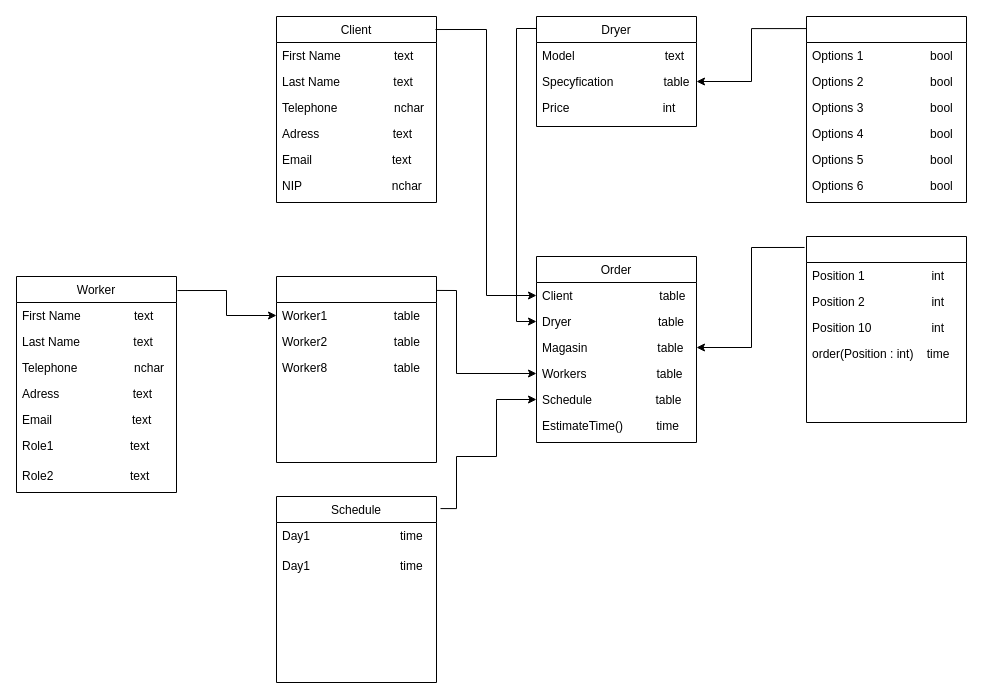
The diagram is 993 pixels wide and 699 high, and some of its shapes have lost their labels. Each missing label, with the box of its shape:
Magasin: (806, 236, 966, 422)
Specyfication: (806, 16, 966, 202)
Workers: (276, 276, 436, 462)
